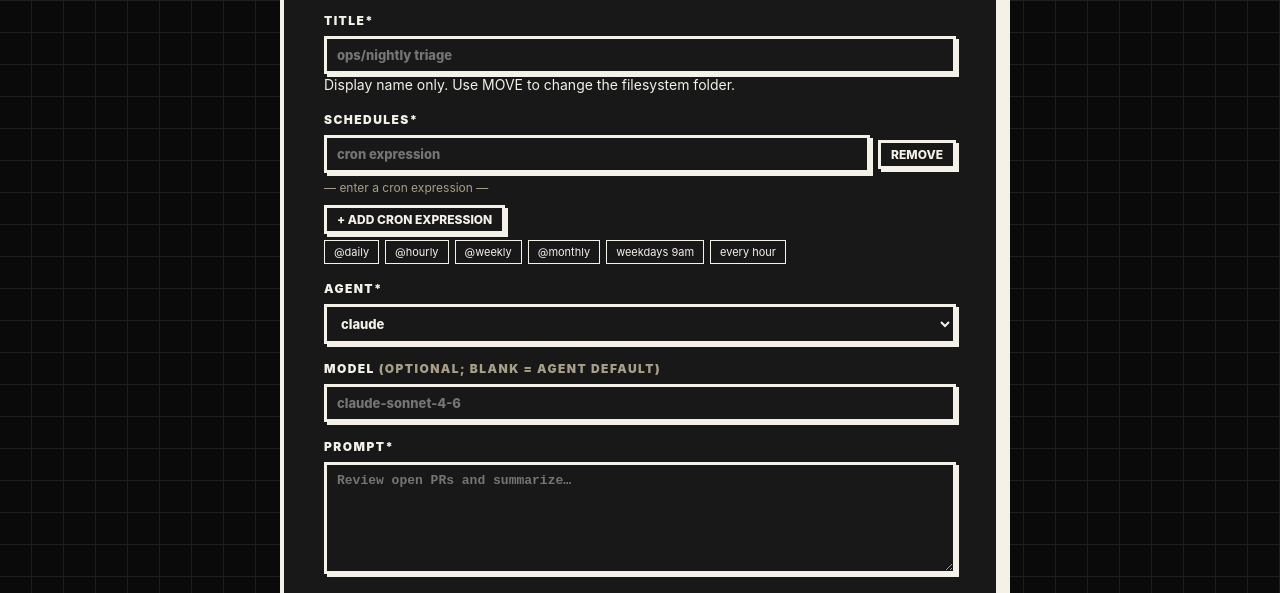
RoutineForm validation › disables save until title, schedule, agent, and prompt are all non-blank
Type "My routine" into the field with placeholder "ops/nightly triage" at (640, 55), box [324,36,956,74]
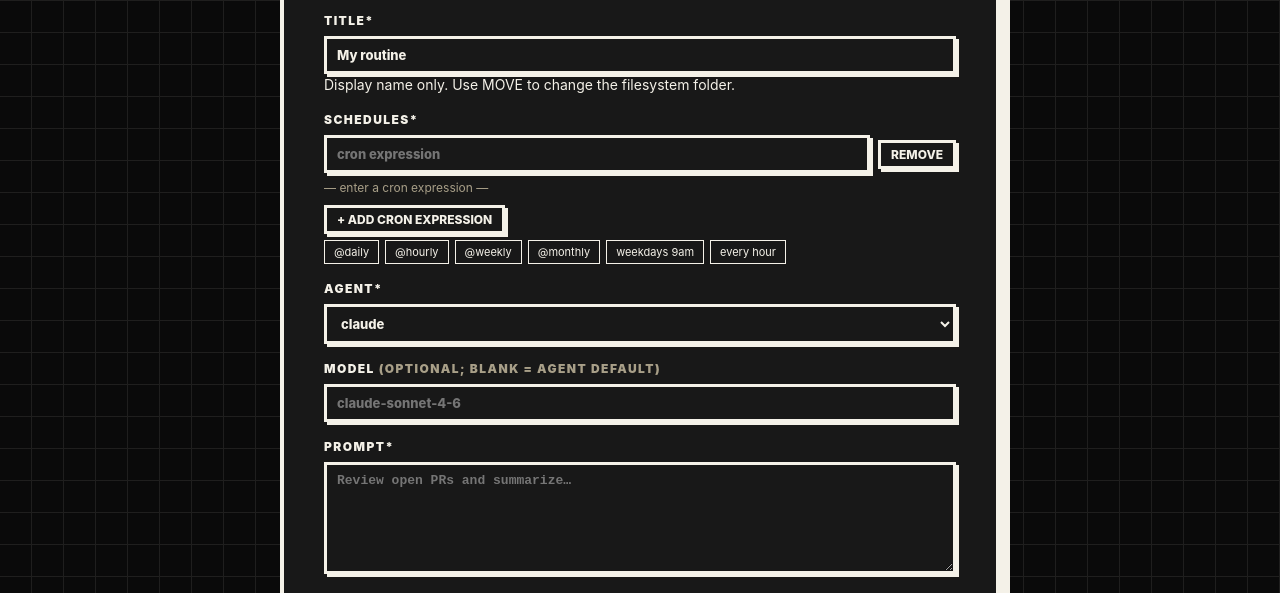
Type "@daily" into the field named "Cron expression 1" at (597, 154), box [324,135,870,173]
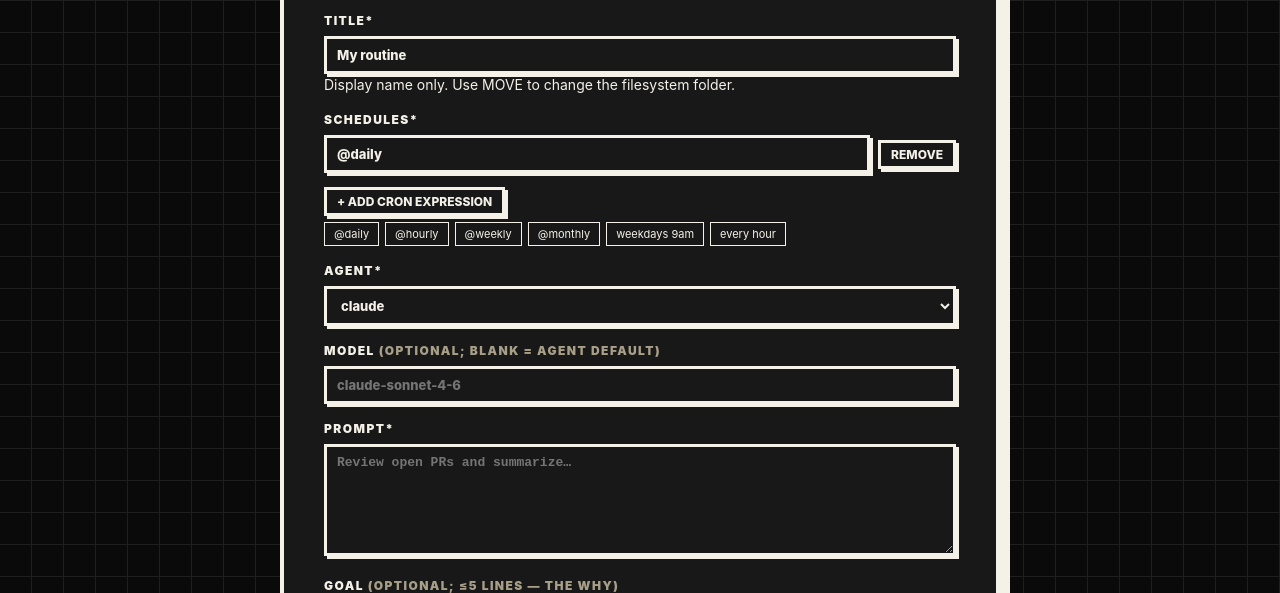
Type "Do the thing" into the text box with placeholder "Review open PRs and summarize…" at (640, 500), box [324,444,956,556]
(page scrolled)
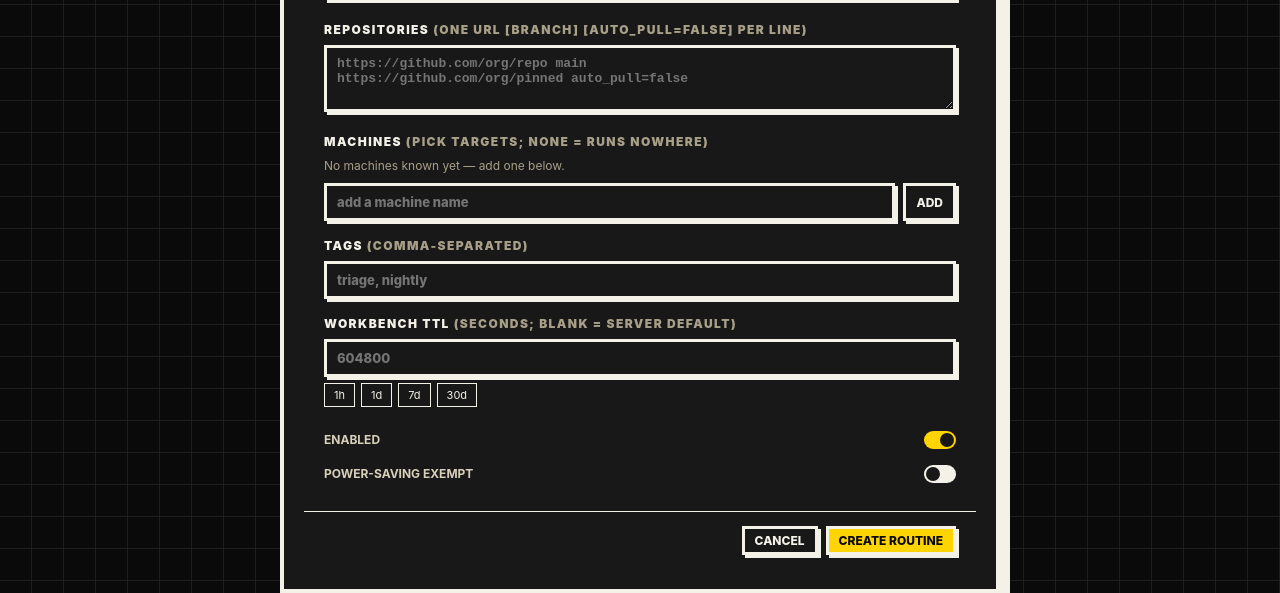
Now the button "CREATE ROUTINE" is enabled, box [826,526,956,555]
